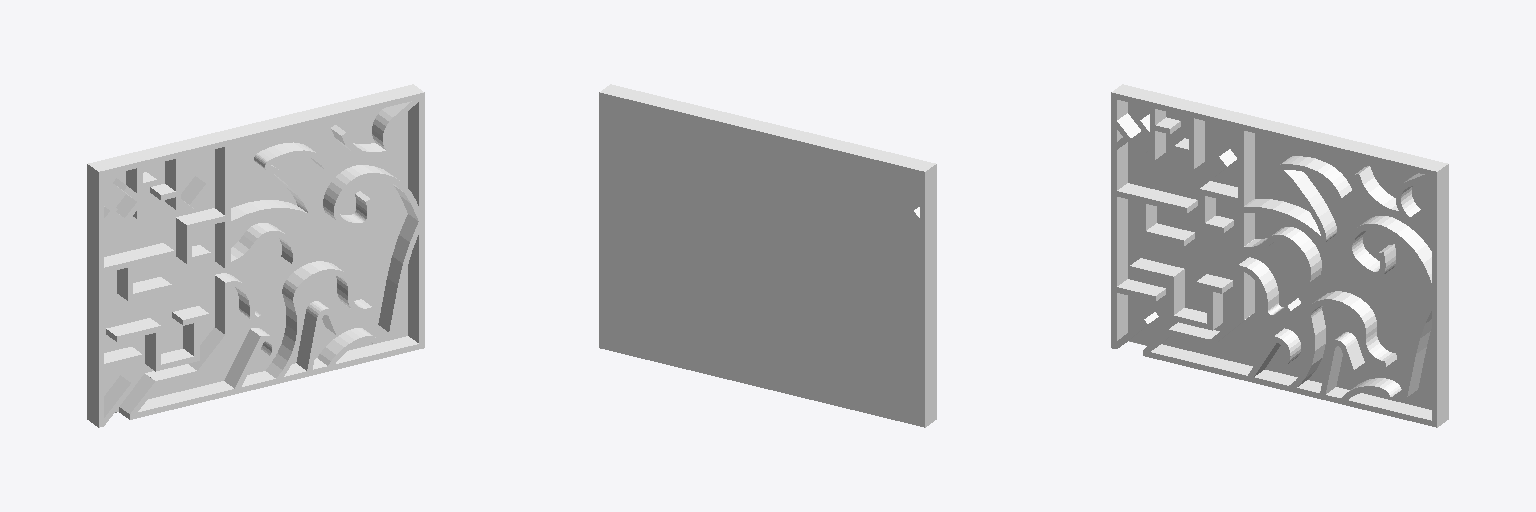
Rendered from map_entregavel_01.obj.
3 views of the same model, side by side, from view 1: azimuth 30°, elevation 25°; view 2: azimuth 150°, elevation 25°; view 3: azimuth 330°, elevation 25° (orthographic).
Visible parts, largest first — view 1: map_entregavel_01; view 2: map_entregavel_01; view 3: map_entregavel_01.
Part boxes in pixels (left/top/right/bottom): map_entregavel_01: left=87, top=84, right=424, bottom=427; map_entregavel_01: left=599, top=84, right=936, bottom=427; map_entregavel_01: left=1111, top=84, right=1448, bottom=427.
Size of the model in its own units: 12.1 by 9.08 by 0.72.